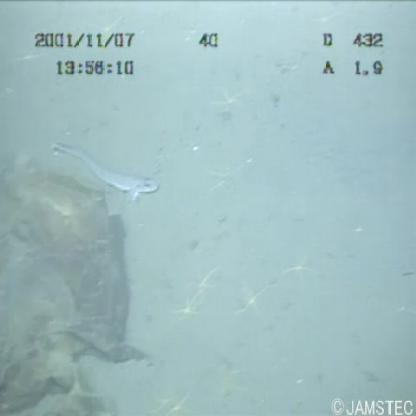Bio: (40, 122, 164, 207)
Rác: (1, 151, 175, 416)
